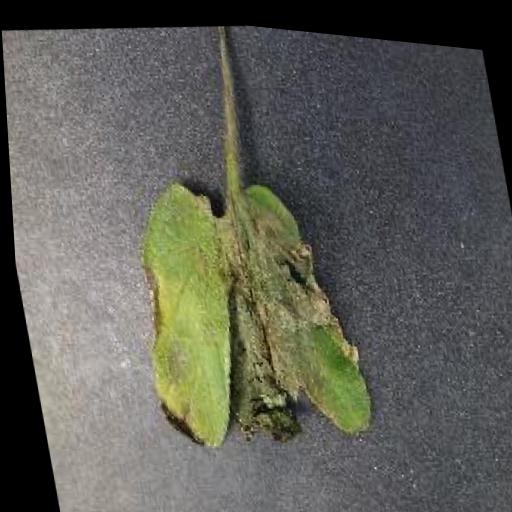Late Blight: (112, 157, 372, 467)
